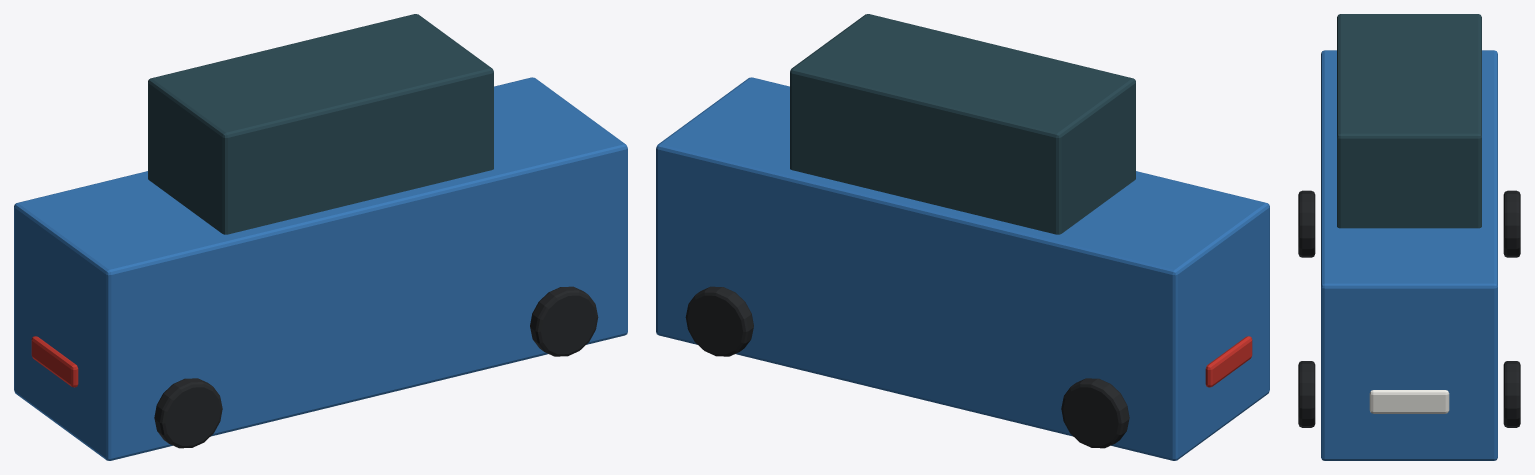
File: Vehicle_011.glb
3 views of the same model, side by side, from view 1: azimuth 30°, elevation 25°; view 2: azimuth 150°, elevation 25°; view 3: azimuth 270°, elevation 25° (orthographic). The views are drawn at different scales.
Visible parts, largest first — view 1: Vehicle_011; view 2: Vehicle_011; view 3: Vehicle_011.
Boxes of the visible parts, <box> form: Vehicle_011: <box>14,14,627,460</box>; Vehicle_011: <box>656,14,1269,460</box>; Vehicle_011: <box>1298,14,1520,460</box>.
Size of the model in its own units: 6.2 by 3.2 by 2.38.
